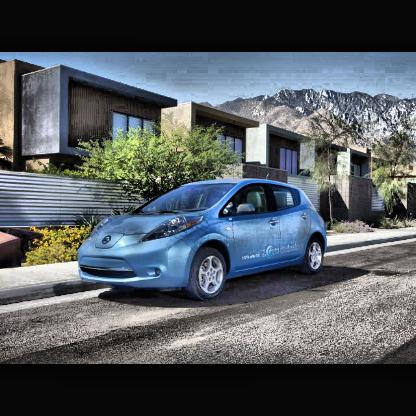Nissan Leaf Hatchback 2012: (78, 174, 330, 300)
